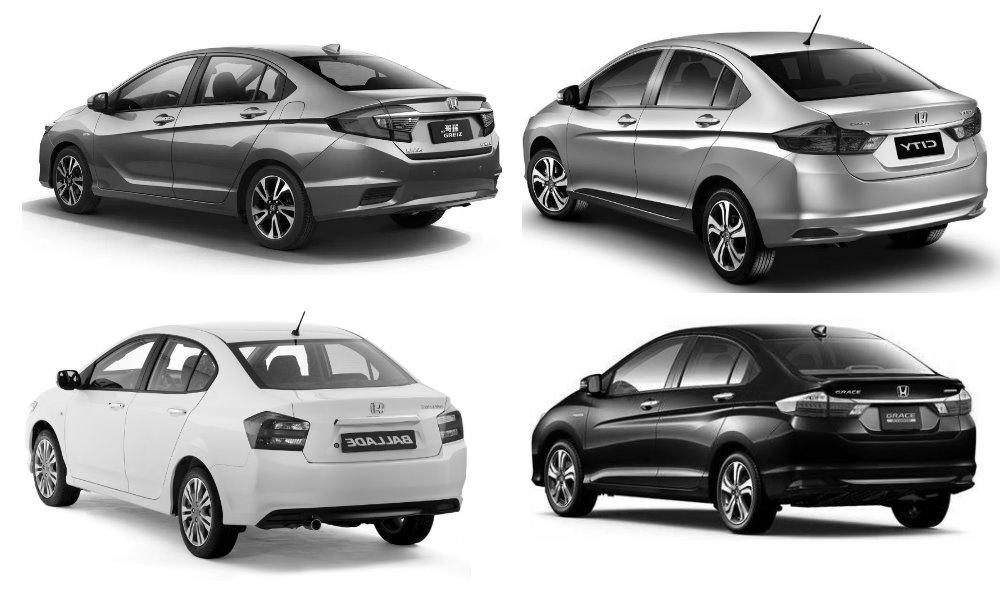Car boot: (800, 83, 986, 186), (810, 369, 973, 475), (289, 389, 460, 464), (364, 87, 501, 163)
Fender - -R-L-: (674, 95, 814, 242), (220, 78, 360, 213), (692, 359, 810, 494), (152, 372, 263, 513)
Passenger-s door - -F-L-: (577, 326, 693, 487), (564, 39, 664, 200), (89, 59, 199, 194), (64, 326, 154, 486)
Passenger-s door - -R-L-: (633, 43, 745, 220), (657, 326, 771, 486), (122, 326, 220, 504), (172, 52, 284, 207)
Rear bumper: (752, 134, 997, 256), (220, 437, 476, 529), (763, 416, 977, 509), (297, 134, 504, 222)
Rear light - -L-: (764, 382, 873, 437), (769, 114, 889, 163), (323, 94, 424, 148), (236, 400, 316, 453)
Rear light - -R-: (420, 399, 476, 447), (934, 99, 992, 145), (924, 380, 975, 427), (472, 94, 503, 137)
Side bumper - -L-: (559, 180, 697, 232), (60, 462, 180, 520), (80, 179, 238, 219), (576, 470, 717, 508)
Side mirror - -L-: (574, 369, 619, 404), (549, 79, 594, 113), (50, 362, 91, 394), (83, 90, 117, 116)
